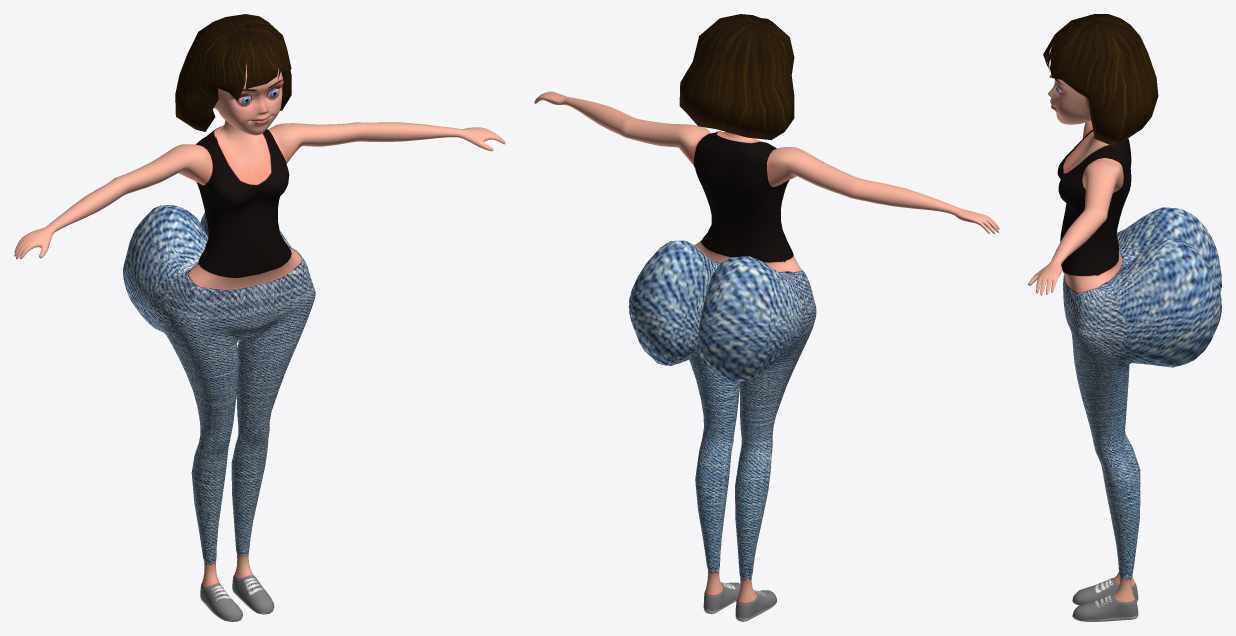
File: KimBoss.fbx
3 views of the same model, side by side, from view 1: azimuth 30°, elevation 25°; view 2: azimuth 150°, elevation 25°; view 3: azimuth 270°, elevation 25° (orthographic).
Visible parts, largest first — view 1: polySurface1, Hair; view 2: polySurface1, Hair; view 3: polySurface1, Hair.
Boxes of the visible parts, left/top/right/bottom form: polySurface1: left=14, top=63, right=505, bottom=621; Hair: left=175, top=14, right=291, bottom=131; polySurface1: left=534, top=91, right=999, bottom=621; Hair: left=679, top=14, right=794, bottom=139; polySurface1: left=1028, top=75, right=1221, bottom=621; Hair: left=1043, top=14, right=1158, bottom=146.
Bounding box in the file's own units: 16.61 × 19.52 × 5.83.
